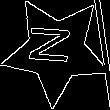N_E: (30, 28, 82, 73)
